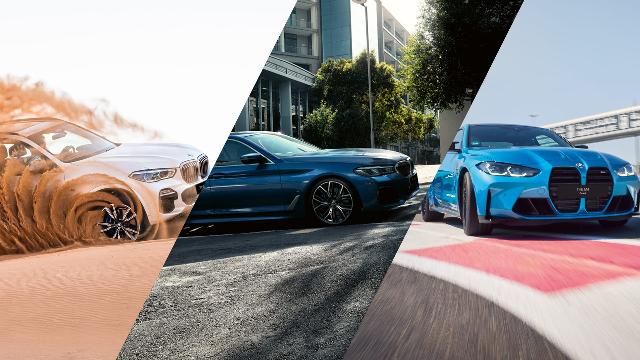bmw: (1, 116, 210, 244), (422, 123, 640, 235), (185, 131, 419, 228)
